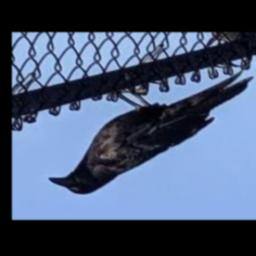Crow: (48, 70, 254, 195)
